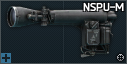NSPU-M night vision scope: (0, 0, 127, 64)
